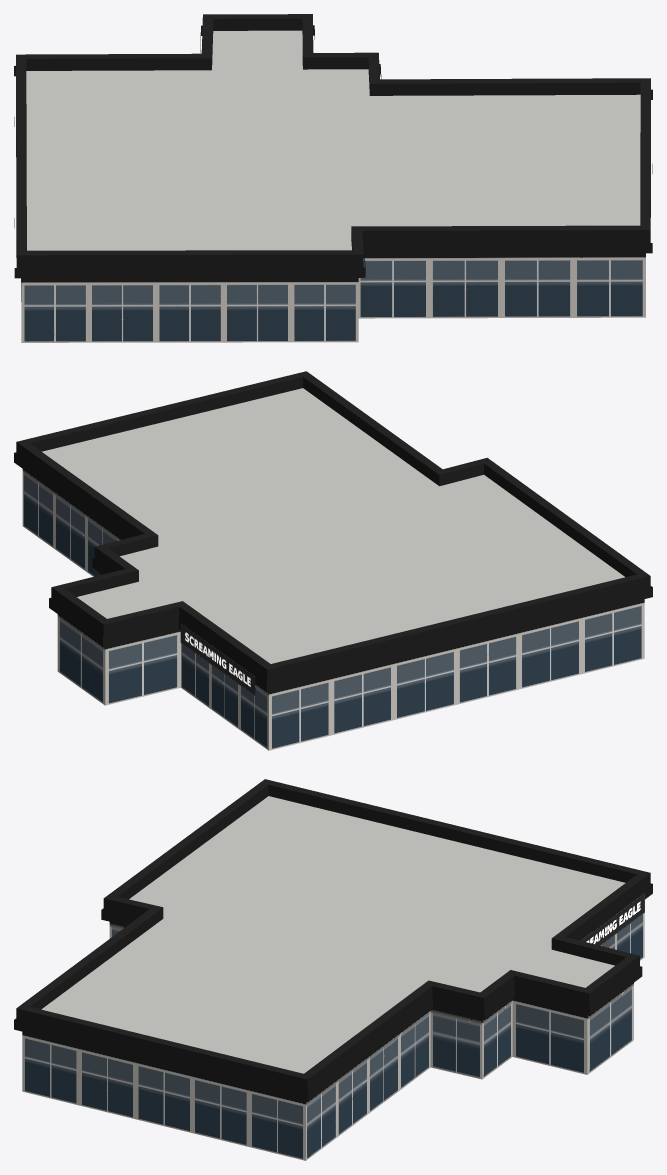
The model's file is screamingeagle.glb.
The picture shows the model from 3 angles, top to bottom: view 1: azimuth 30°, elevation 25°; view 2: azimuth 150°, elevation 25°; view 3: azimuth 270°, elevation 25°; orthographic projection. The views are drawn at different scales.
Parts seen in each view (by area): view 1: screamingeagle_lod0; view 2: screamingeagle_lod0; view 3: screamingeagle_lod0.
Part boxes in pixels (x1=…): screamingeagle_lod0: x1=14, y1=14, x2=652, y2=342; screamingeagle_lod0: x1=14, y1=371, x2=652, y2=750; screamingeagle_lod0: x1=14, y1=779, x2=652, y2=1160.
Size of what is drawn, in the model's own units: 40.16 by 5.2 by 35.85.
Materials: 4 (2 with a texture image).
